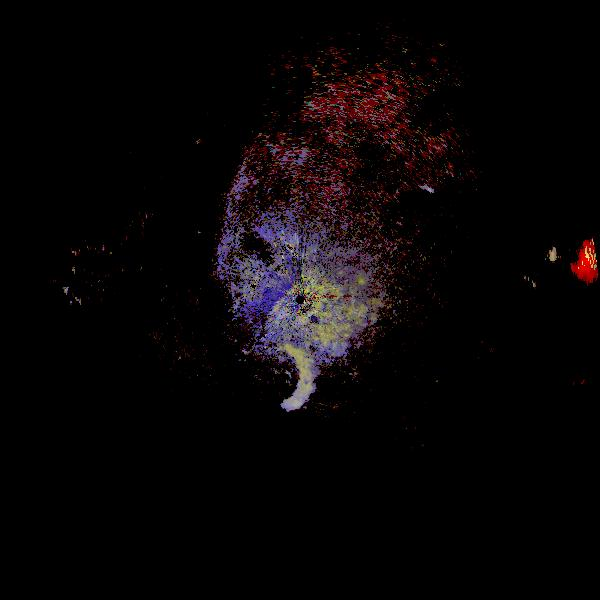roost: (246, 329, 342, 425), (400, 428, 472, 500)
